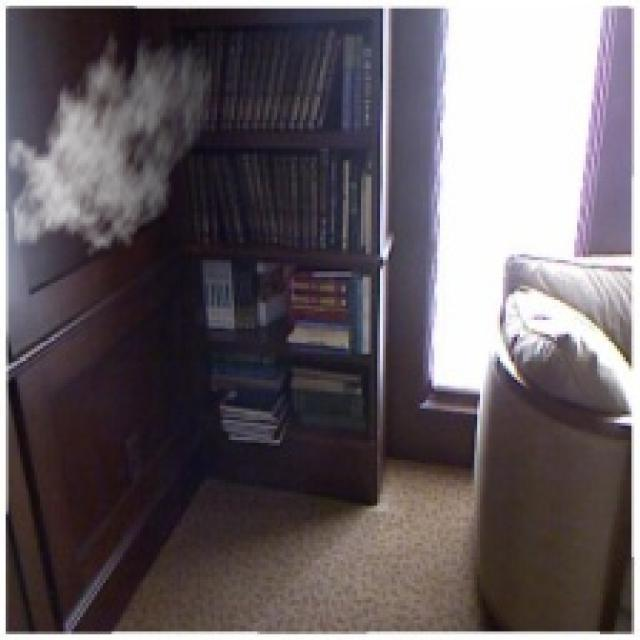Smoke: (6, 20, 214, 260)
